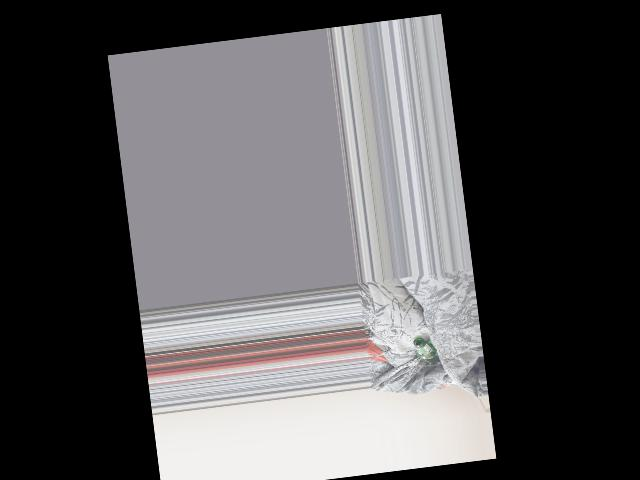beer: (413, 335, 438, 365)
